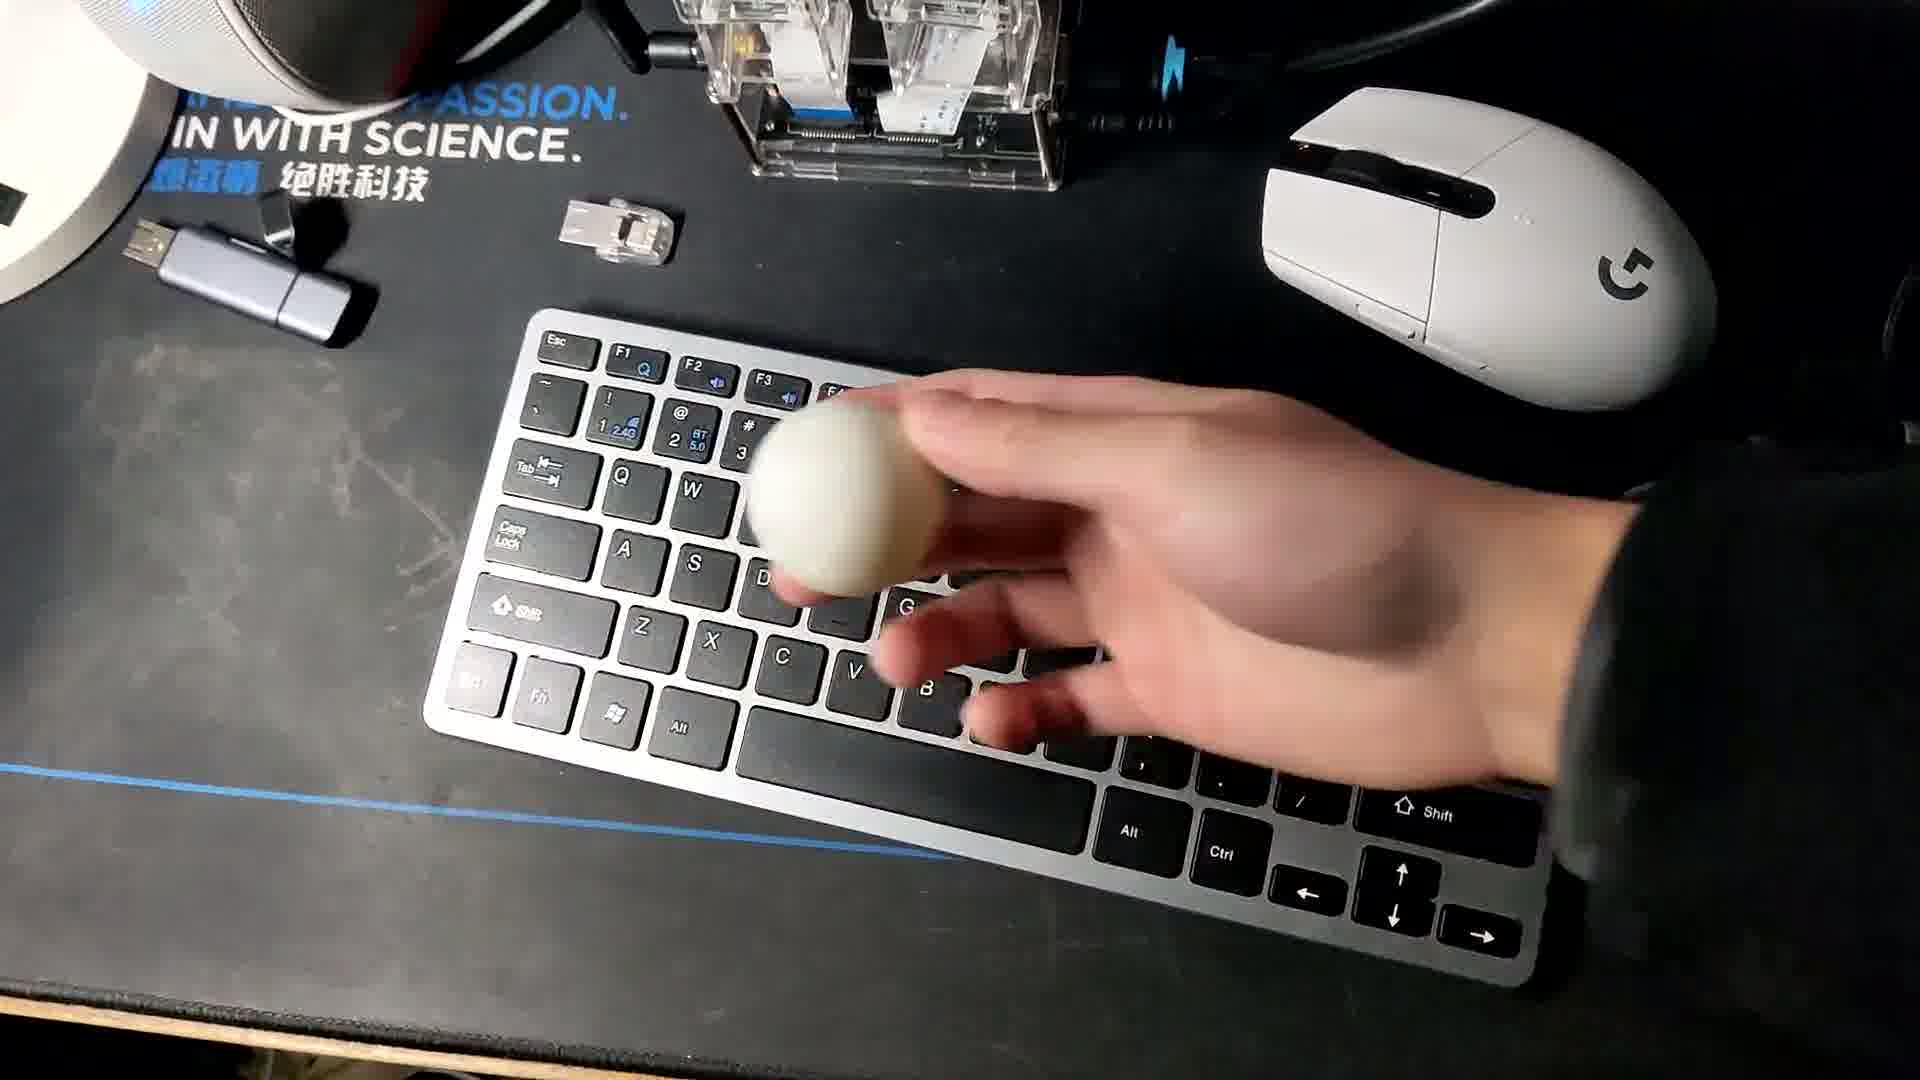Ball: (741, 397, 938, 597)
